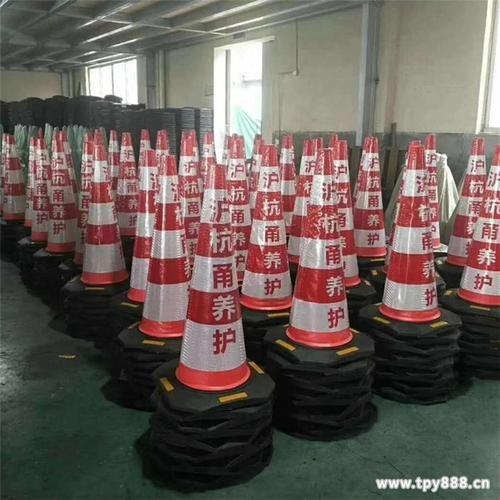cone_barrel: (172, 144, 262, 398), (148, 131, 224, 370), (282, 142, 360, 355), (372, 136, 447, 333), (135, 146, 191, 347), (236, 142, 295, 314), (359, 133, 421, 292), (74, 145, 131, 296), (445, 135, 493, 301), (347, 131, 390, 267), (455, 186, 497, 312), (41, 124, 78, 253), (113, 131, 138, 243), (176, 126, 202, 228), (276, 134, 298, 237)
